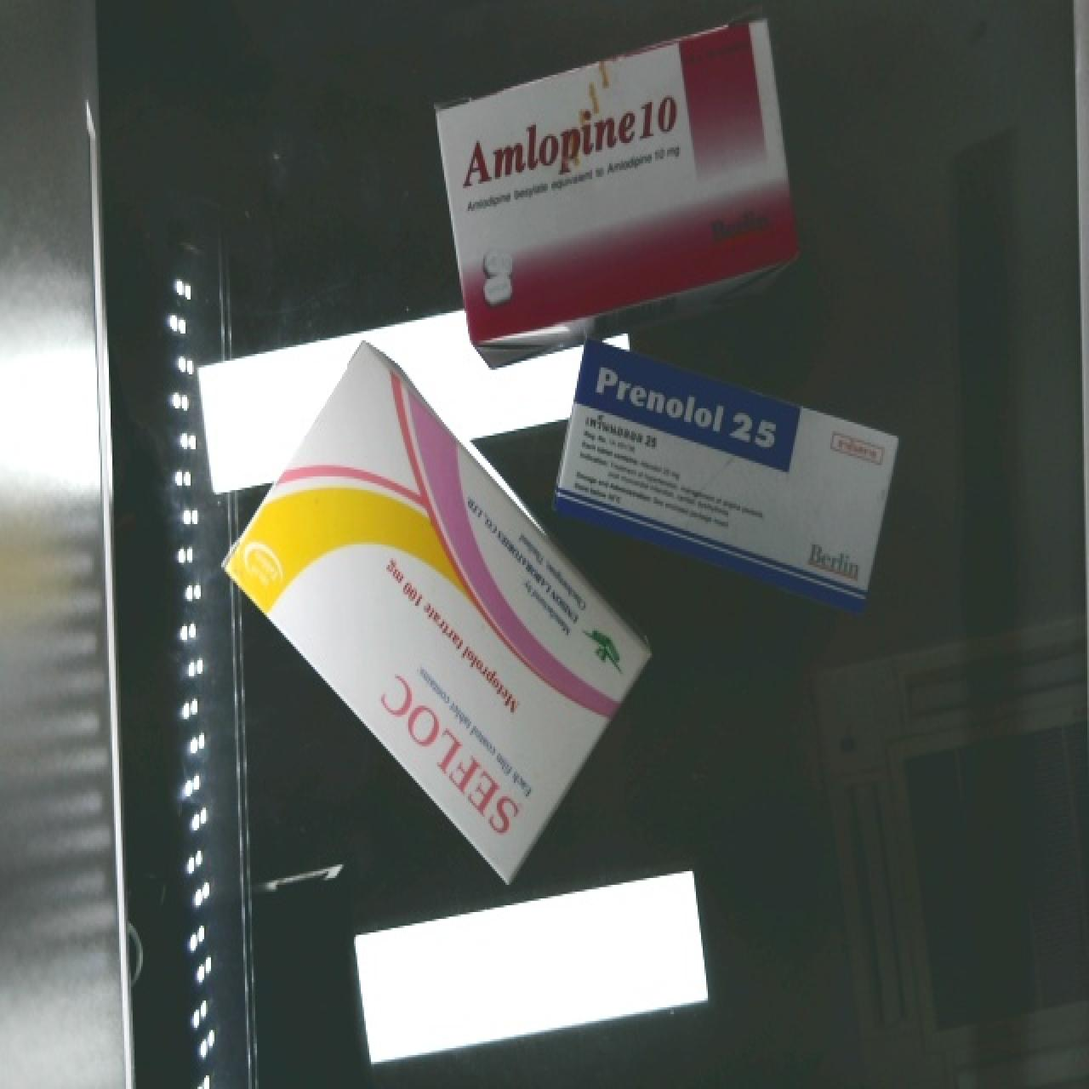medicine_label_obb: (350, 647, 557, 871), (434, 57, 705, 210), (575, 347, 806, 467)
